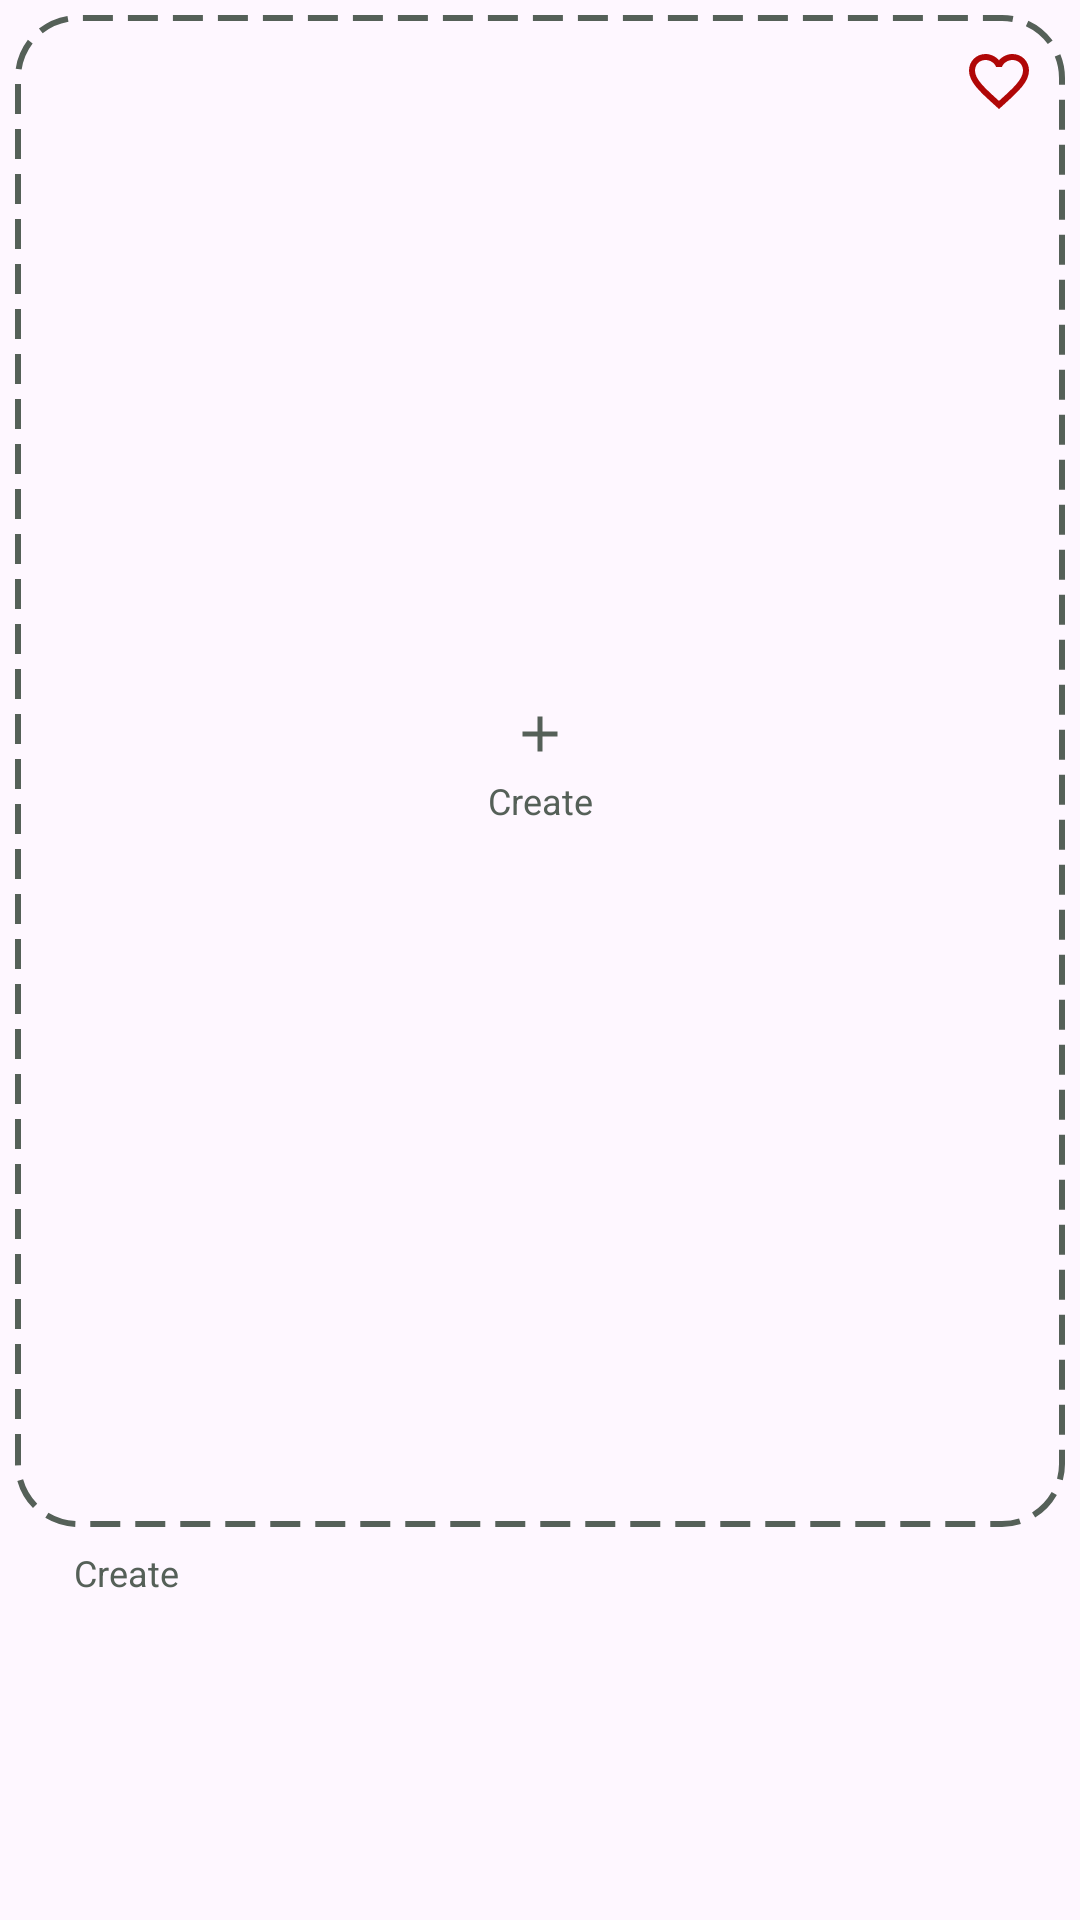

Icon bounding boxes for this 1080px x 1920px phone screenshot, format (x1, y1, x2, y2):
add: (522, 716, 558, 752)
Favorite Button: (969, 54, 1029, 109)
